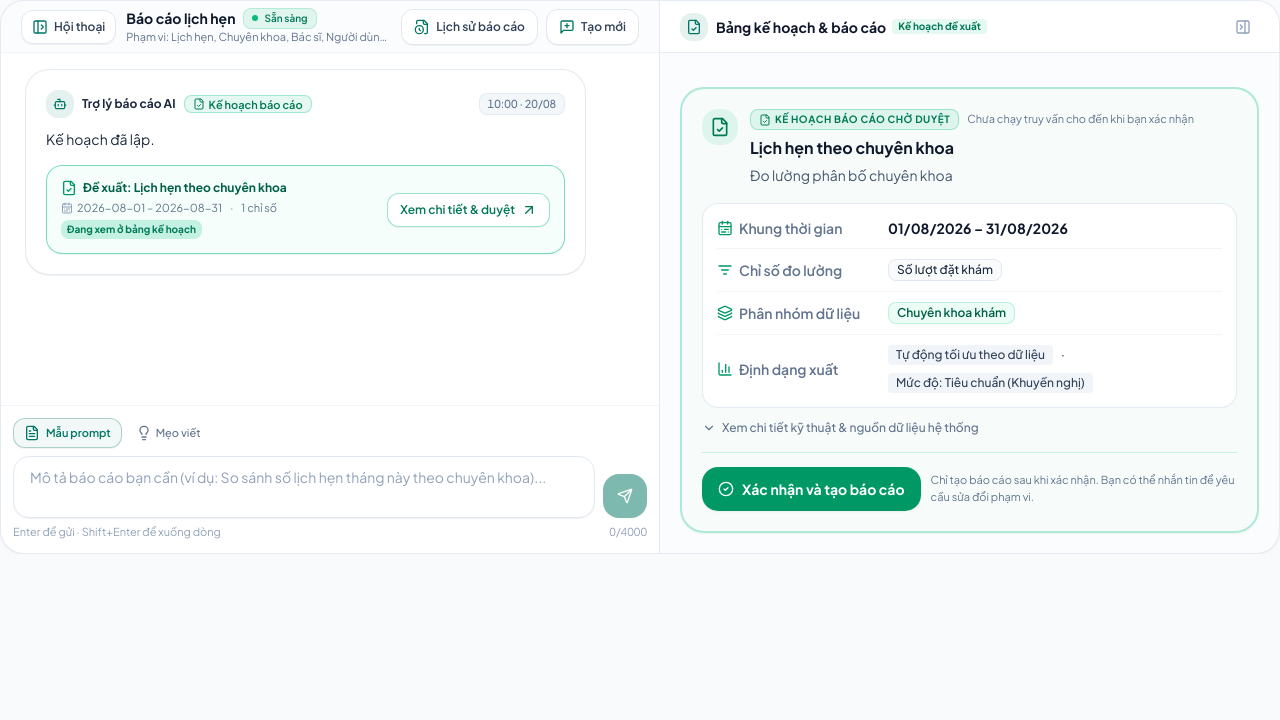
it: AdminAiReportAssistantPage › toggles expandable technical details in the plan card
Expected: the text "Nguồn dữ liệu trích xuất:" is not shown
Click the button "Xem chi tiết kỹ thuật & nguồn dữ liệu hệ thống". click: (840, 428)
box: x1=702 y1=420 x2=979 y2=436
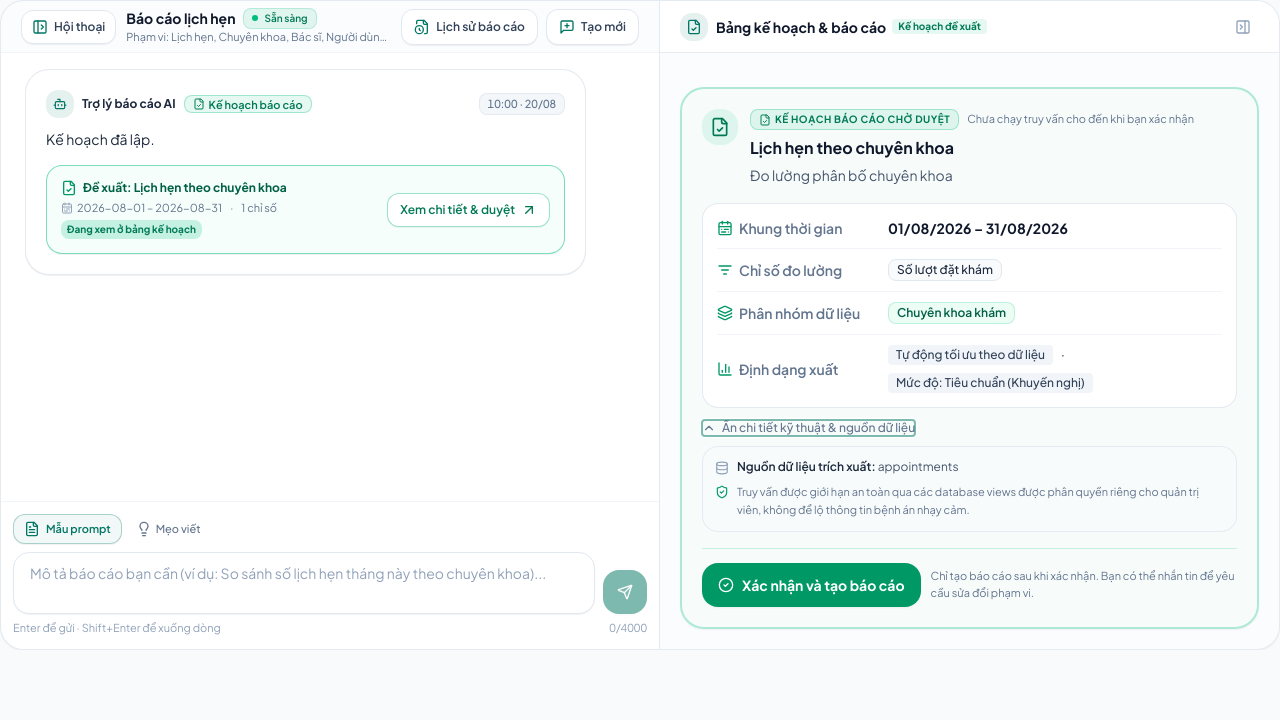
Expected: the text "Nguồn dữ liệu trích xuất:" is shown, x1=737 y1=459 x2=878 y2=474
Click the button "Ẩn chi tiết kỹ thuật & nguồn dữ liệu". click: (809, 428)
box: x1=702 y1=420 x2=915 y2=436
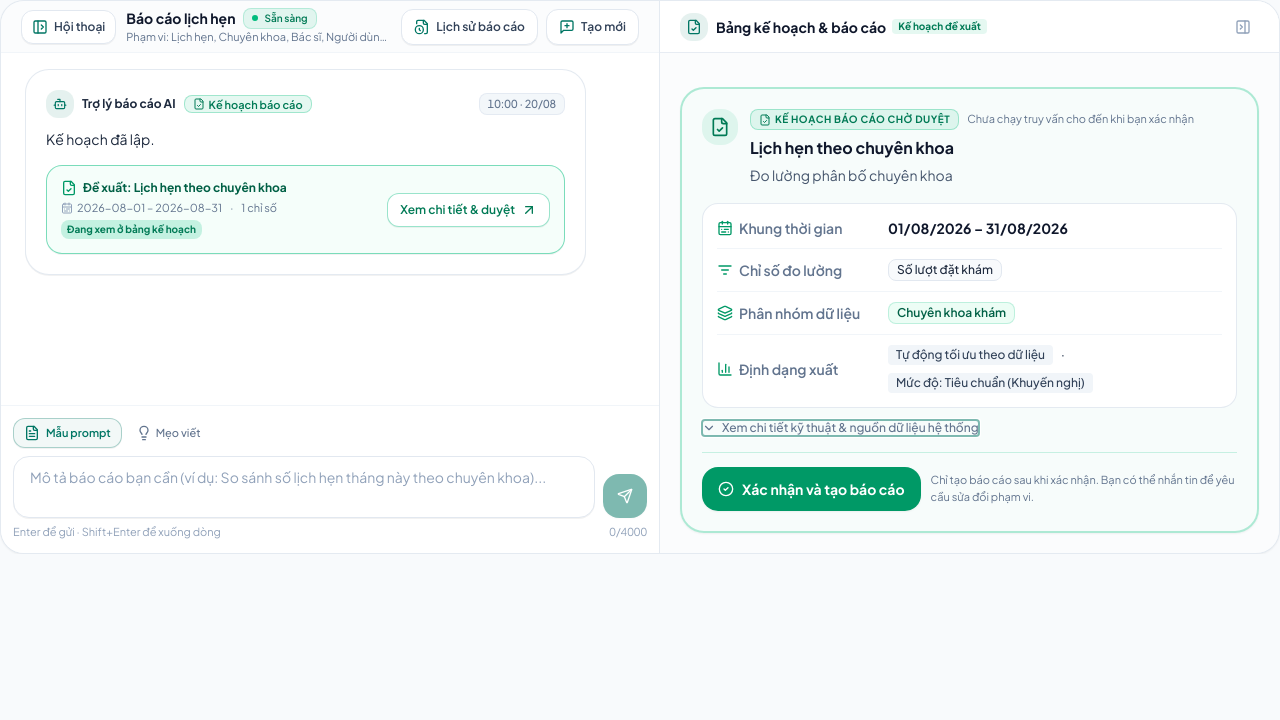
Expected: the text "Nguồn dữ liệu trích xuất:" is gone
